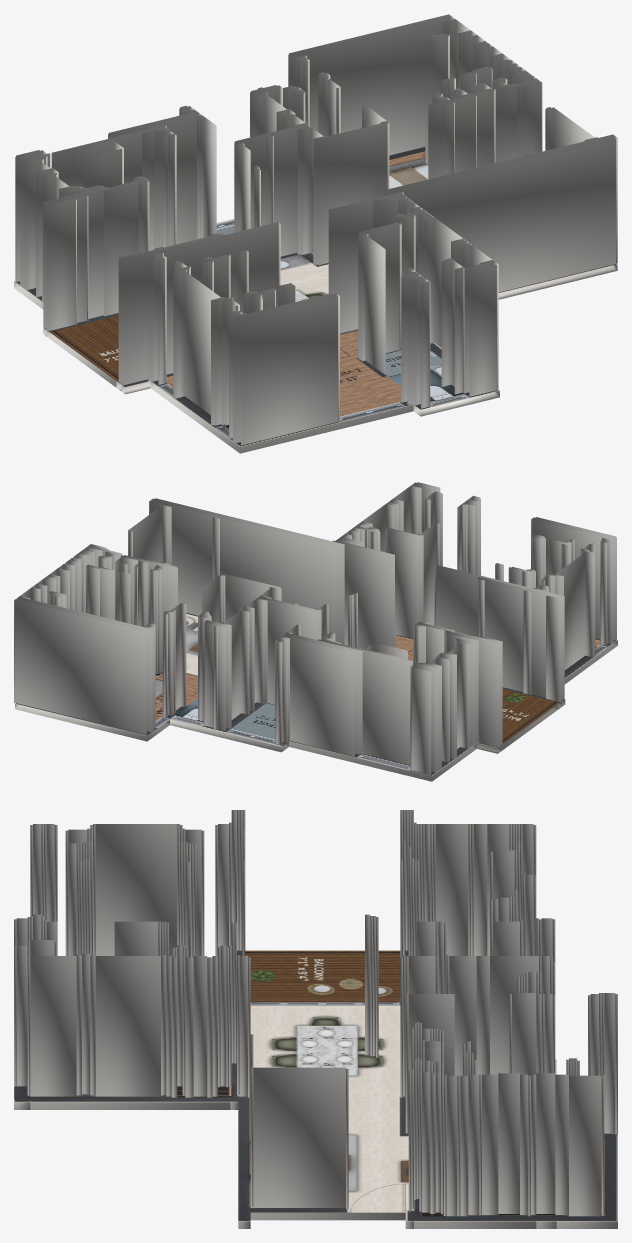
Rendered from SPR_unit_B_conceptual.glb.
The picture shows the model from 3 angles, top to bottom: view 1: azimuth 30°, elevation 25°; view 2: azimuth 150°, elevation 25°; view 3: azimuth 270°, elevation 25°; orthographic projection. The views are drawn at different scales.
Parts seen in each view (by area): view 1: UnitB_walls_from_plan, UnitB_floor_brochure_plan, UnitB_slab; view 2: UnitB_walls_from_plan, UnitB_floor_brochure_plan, UnitB_slab; view 3: UnitB_walls_from_plan, UnitB_floor_brochure_plan, UnitB_slab.
Boxes of the visible parts, left/top/right/bottom form: UnitB_walls_from_plan: left=15, top=14, right=617, bottom=445; UnitB_floor_brochure_plan: left=14, top=147, right=615, bottom=446; UnitB_slab: left=14, top=264, right=617, bottom=453; UnitB_walls_from_plan: left=14, top=482, right=616, bottom=774; UnitB_floor_brochure_plan: left=15, top=613, right=617, bottom=776; UnitB_slab: left=15, top=640, right=617, bottom=781; UnitB_walls_from_plan: left=14, top=810, right=617, bottom=1216; UnitB_floor_brochure_plan: left=14, top=950, right=617, bottom=1221; UnitB_slab: left=14, top=1102, right=617, bottom=1228.
Bounding box in the file's own units: 11.99 × 3.05 × 11.28.
3 materials, 1 textured.
